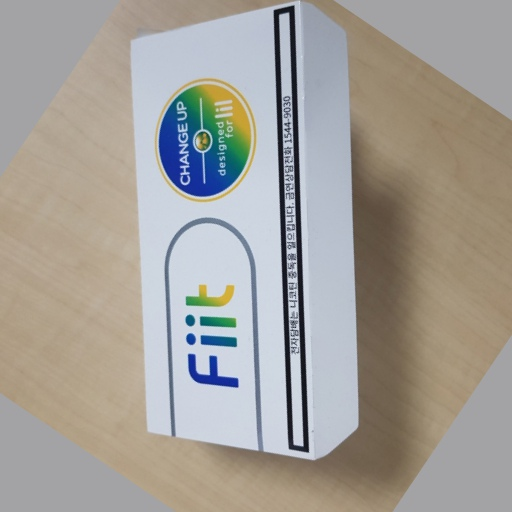Paper_0: (117, 2, 374, 466)
